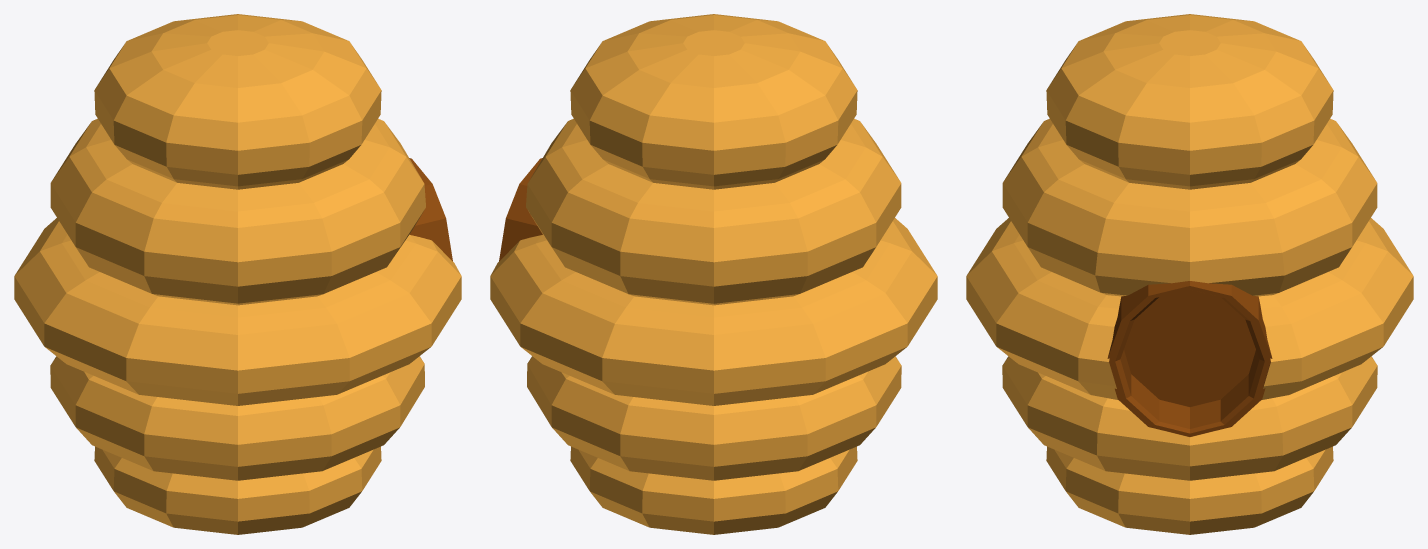
The model's file is bee_honeycomb2.fbx.
3 views of the same model, side by side, from view 1: azimuth 30°, elevation 25°; view 2: azimuth 150°, elevation 25°; view 3: azimuth 270°, elevation 25° (orthographic).
Visible parts, largest first — view 1: bee_honeycomb2; view 2: bee_honeycomb2; view 3: bee_honeycomb2.
Part boxes in pixels (x1,y1,x2,y2): bee_honeycomb2: [14, 14, 461, 534]; bee_honeycomb2: [490, 14, 937, 534]; bee_honeycomb2: [966, 14, 1413, 534].
Size of the model in its own units: 194 by 228 by 202.
